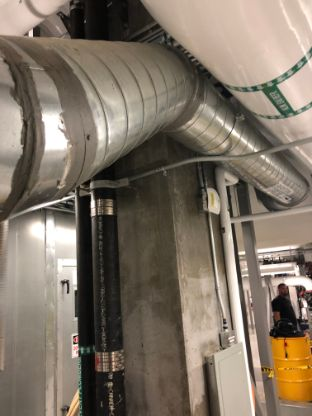Duct: (1, 30, 312, 220)
